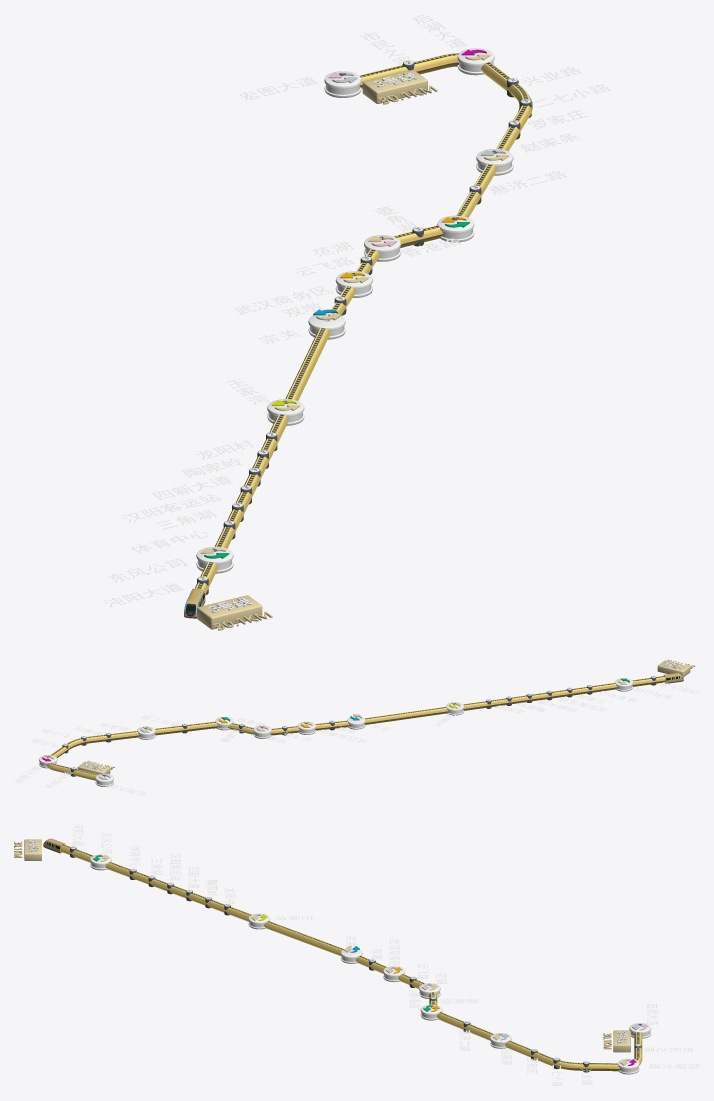
The picture shows the model from 3 angles, top to bottom: view 1: azimuth 30°, elevation 25°; view 2: azimuth 150°, elevation 25°; view 3: azimuth 270°, elevation 25°; orthographic projection. The views are drawn at different scales.
Parts seen in each view (by area): view 1: 3号线, psop-whgj-htdd-宏图大道, Box003, psop-whgj-whswq-武汉商务区, Box016, psop-whgj-hhdd-后湖大道, psop-whgj-xgl-香港路, psop-whgj-dfgs-东风公司, psop-whgj-zjt-赵家条, psop-whgj-wjw-王家湾, psop-whgj-zg-宗关, psop-whgj-fh-范湖; view 2: 3号线, psop-whgj-whswq-武汉商务区, psop-whgj-htdd-宏图大道, psop-whgj-dfgs-东风公司, psop-whgj-zjt-赵家条, Box003, psop-whgj-hhdd-后湖大道, psop-whgj-wjw-王家湾, psop-whgj-fh-范湖, psop-whgj-zg-宗关, psop-whgj-xgl-香港路, Box016; view 3: 3号线, psop-whgj-hhdd-后湖大道, psop-whgj-whswq-武汉商务区, psop-whgj-xgl-香港路, psop-whgj-htdd-宏图大道, psop-whgj-dfgs-东风公司.
Part boxes in pixels (box(x1,y1,x2,y2)): 3号线: box(195, 53, 532, 595); psop-whgj-htdd-宏图大道: box(239, 71, 361, 100); Box003: box(197, 595, 262, 629); psop-whgj-whswq-武汉商务区: box(233, 271, 372, 314); Box016: box(362, 70, 427, 103); psop-whgj-hhdd-后湖大道: box(412, 14, 494, 75); psop-whgj-xgl-香港路: box(401, 215, 474, 256); psop-whgj-dfgs-东风公司: box(108, 546, 233, 582); psop-whgj-zjt-赵家条: box(476, 133, 579, 175); psop-whgj-wjw-王家湾: box(225, 378, 304, 425); psop-whgj-zg-宗关: box(259, 309, 345, 343); psop-whgj-fh-范湖: box(310, 235, 401, 261); 3号线: box(46, 676, 665, 780); psop-whgj-whswq-武汉商务区: box(297, 721, 367, 743); psop-whgj-htdd-宏图大道: box(95, 773, 146, 795); psop-whgj-dfgs-东风公司: box(615, 678, 672, 698); psop-whgj-zjt-赵家条: box(100, 722, 155, 739); Box003: box(657, 660, 690, 677); psop-whgj-hhdd-后湖大道: box(14, 755, 57, 783); psop-whgj-wjw-王家湾: box(434, 702, 464, 726); psop-whgj-fh-范湖: box(253, 725, 288, 743); psop-whgj-zg-宗关: box(347, 714, 390, 731); psop-whgj-xgl-香港路: box(215, 717, 265, 730); Box016: box(77, 761, 110, 774); 3号线: box(60, 844, 642, 1071); psop-whgj-hhdd-后湖大道: box(617, 1058, 699, 1074); psop-whgj-whswq-武汉商务区: box(383, 939, 405, 982); psop-whgj-xgl-香港路: box(409, 992, 442, 1020); psop-whgj-htdd-宏图大道: box(629, 1003, 658, 1038); psop-whgj-dfgs-东风公司: box(90, 833, 112, 870).
Size of the model in its own units: 3.09 by 0.0643 by 3.42.
Materials: 13 (3 with a texture image).
